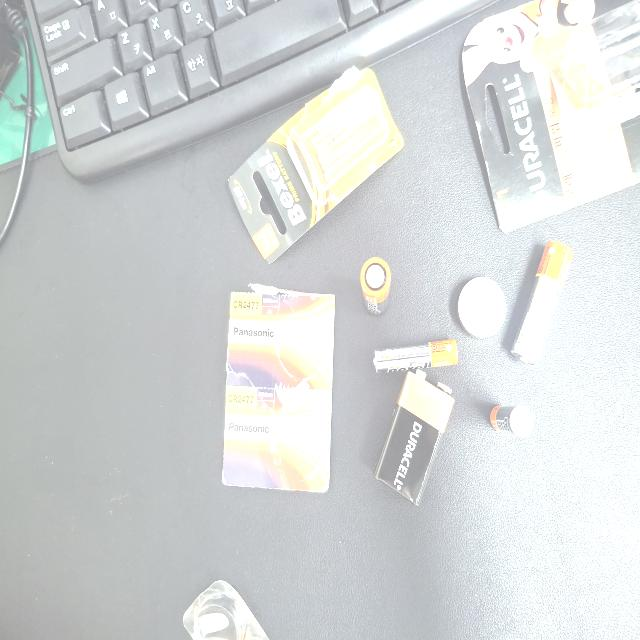9V: (101, 499, 203, 606)
AA: (244, 480, 286, 520)
AAA: (201, 498, 225, 610)
COIN: (227, 611, 271, 640)
